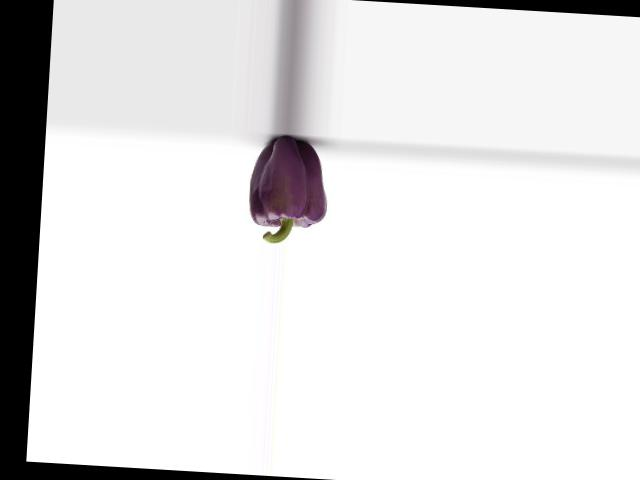bell_pepper: (238, 135, 336, 245)
